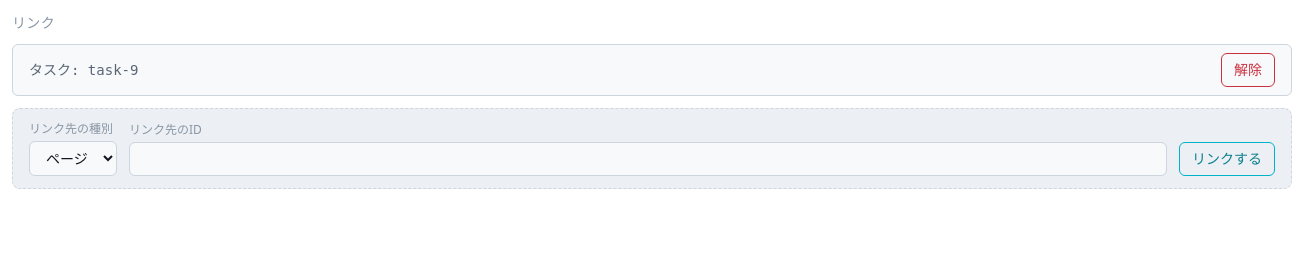
Test: EntityLinks › リンク解除に失敗したらエラーメッセージを表示する
Expected: the text "タスク: task-9" is shown, [29,60,138,80]
What coordinates should you click on to do the following:
click the button "解除"
I would click on:
 (1248, 70)
Its box is [1221,53,1275,87].
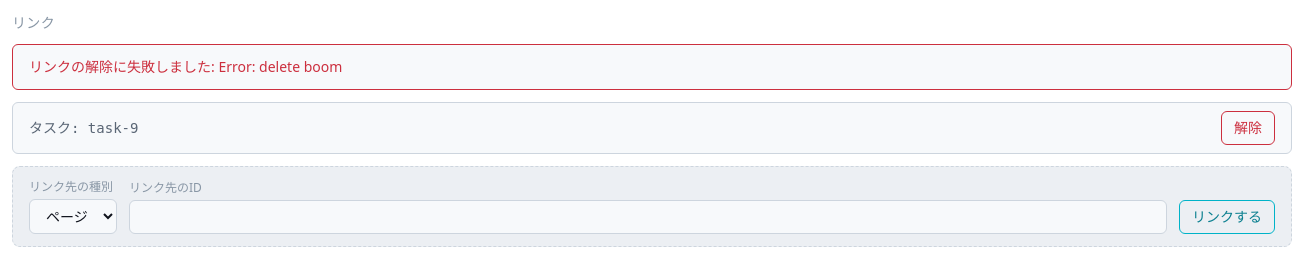
Now the message shows "delete boom", box [29,57,342,76]
